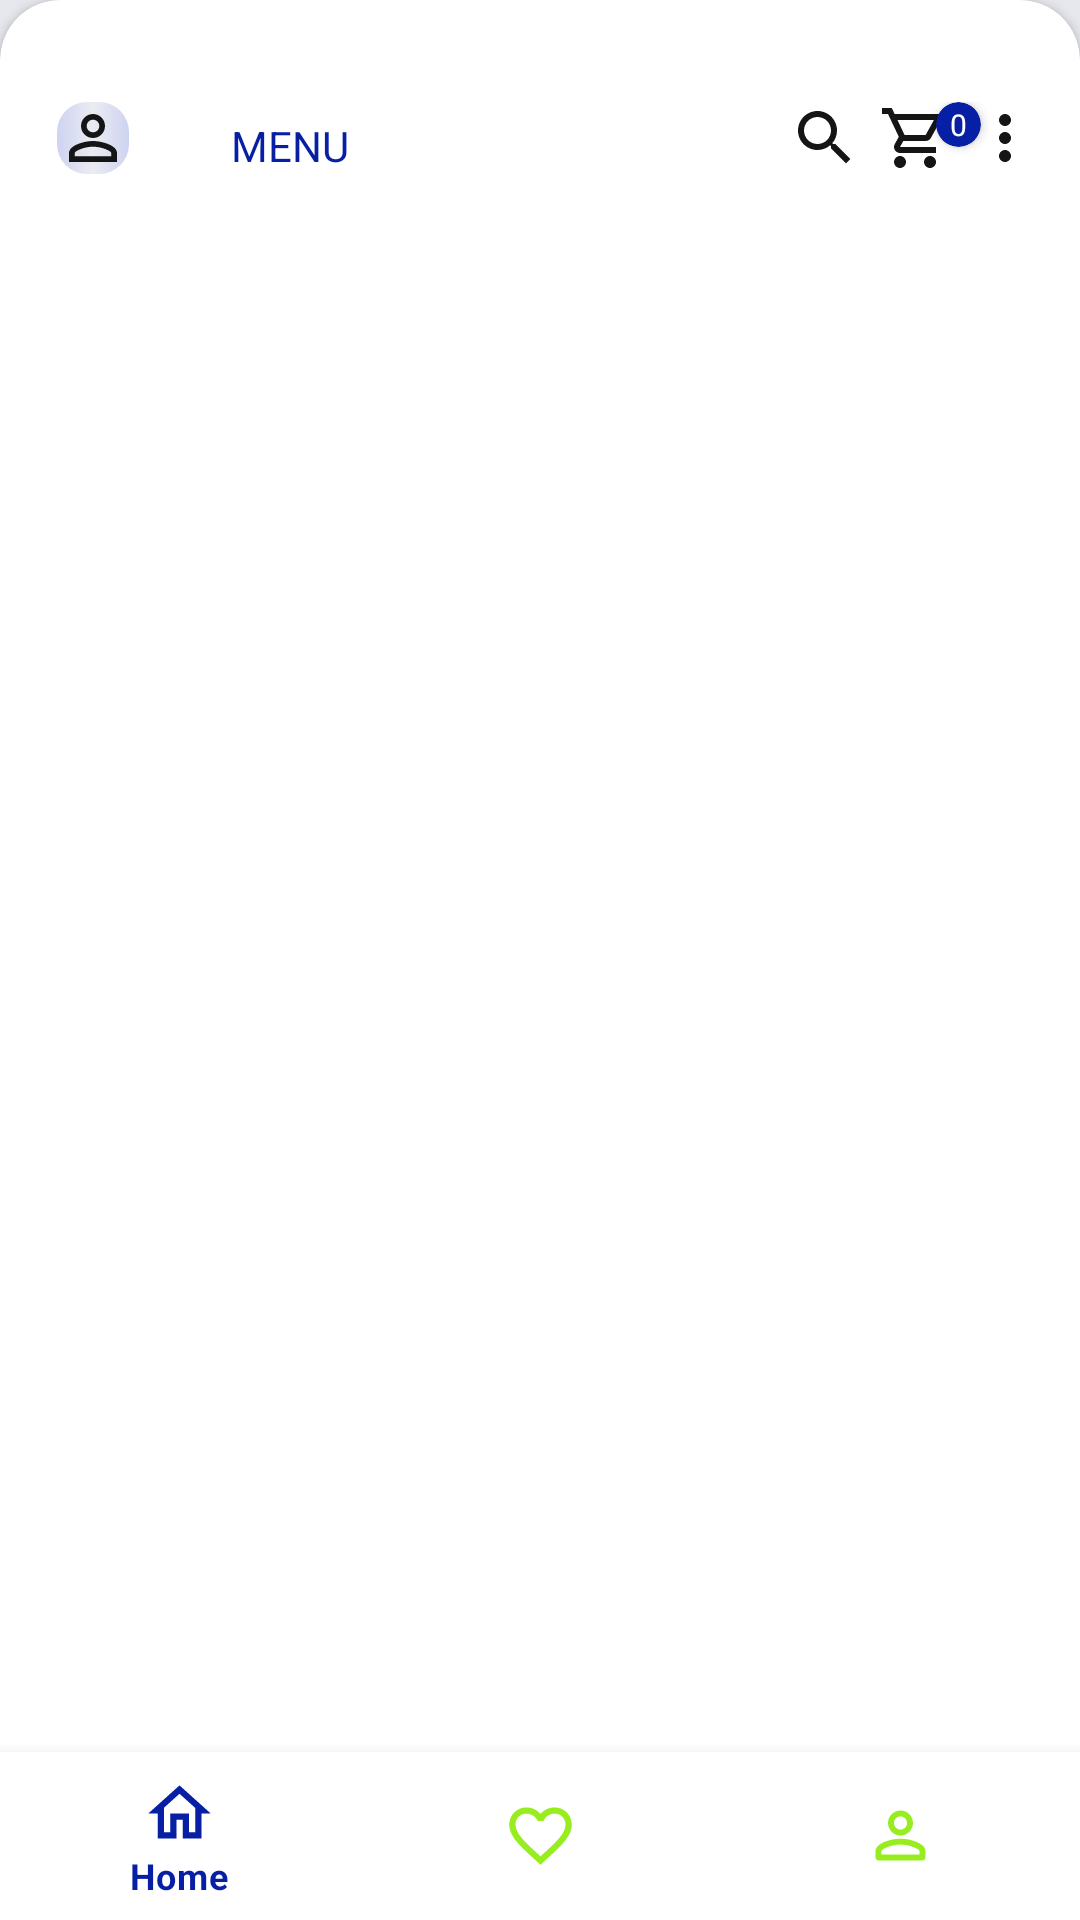

Screen size 1080×1920. Icon name, then its box in pixels as bbox=(x1, y1, x2, y2):
more vert: bbox=(969, 104, 1011, 162)
person: bbox=(57, 102, 129, 174)
search: bbox=(798, 111, 850, 163)
